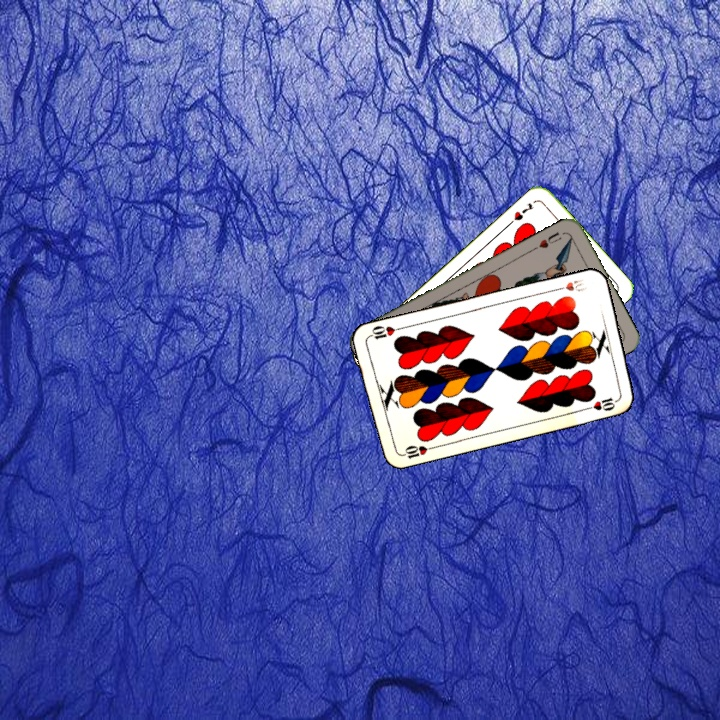H10: (396, 441, 437, 461), (550, 275, 589, 295)
H7: (505, 199, 537, 228)
HU: (529, 228, 564, 253)
